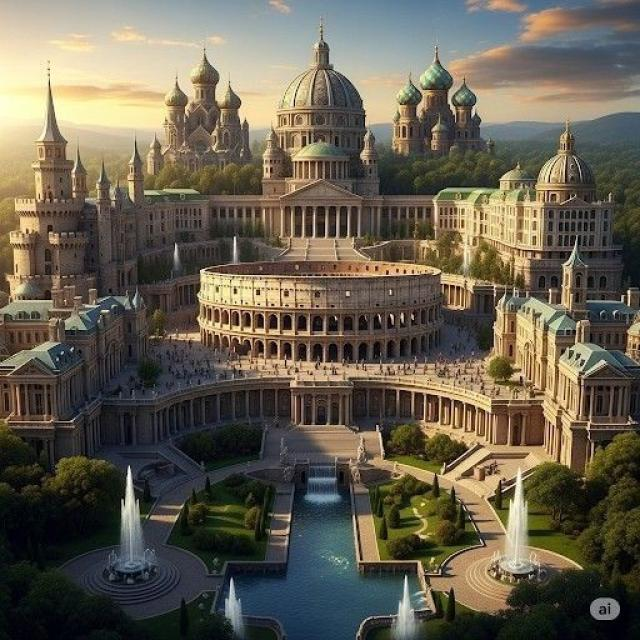castle: (18, 15, 628, 467)
